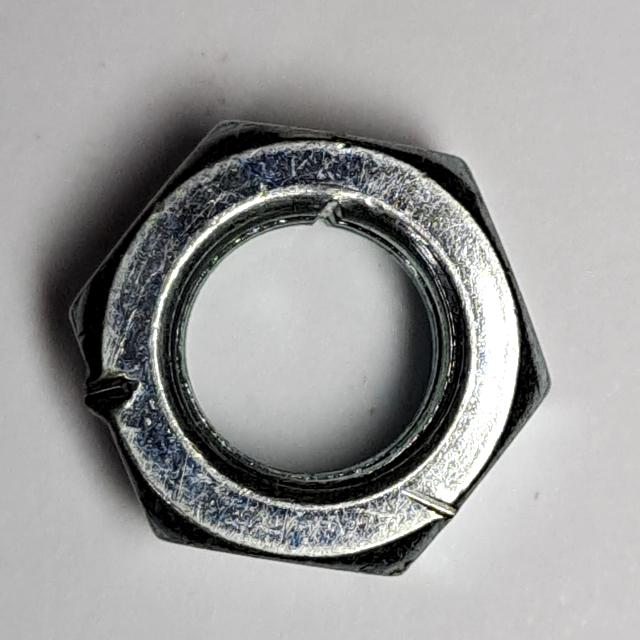Scratches: (59, 106, 566, 587)
